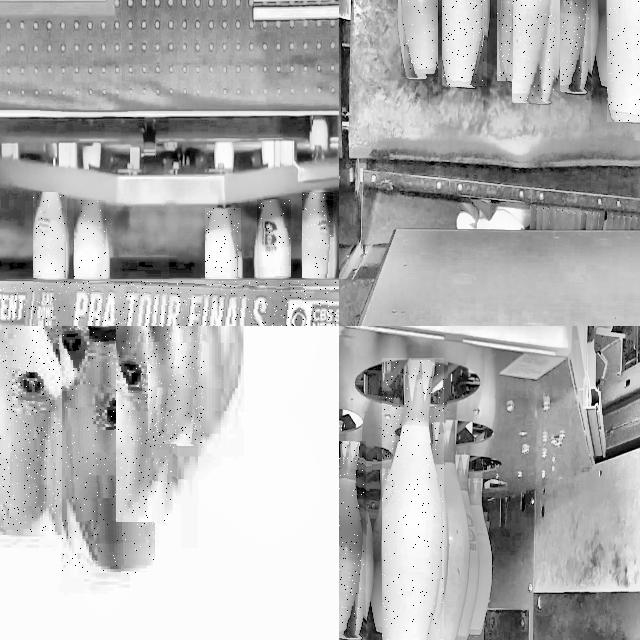bowling-pins: (62, 326, 154, 574), (382, 359, 444, 640), (123, 326, 175, 522), (435, 403, 470, 640), (157, 326, 204, 444), (339, 441, 364, 635), (456, 451, 480, 640), (513, 0, 555, 101), (372, 458, 396, 632), (469, 471, 493, 634), (443, 0, 485, 85), (33, 192, 67, 276), (402, 0, 437, 75), (74, 201, 106, 279), (258, 199, 290, 277), (561, 0, 589, 89), (303, 193, 331, 278), (206, 208, 239, 278), (597, 0, 614, 86), (497, 0, 506, 79)
sweep board: (0, 283, 339, 326)
